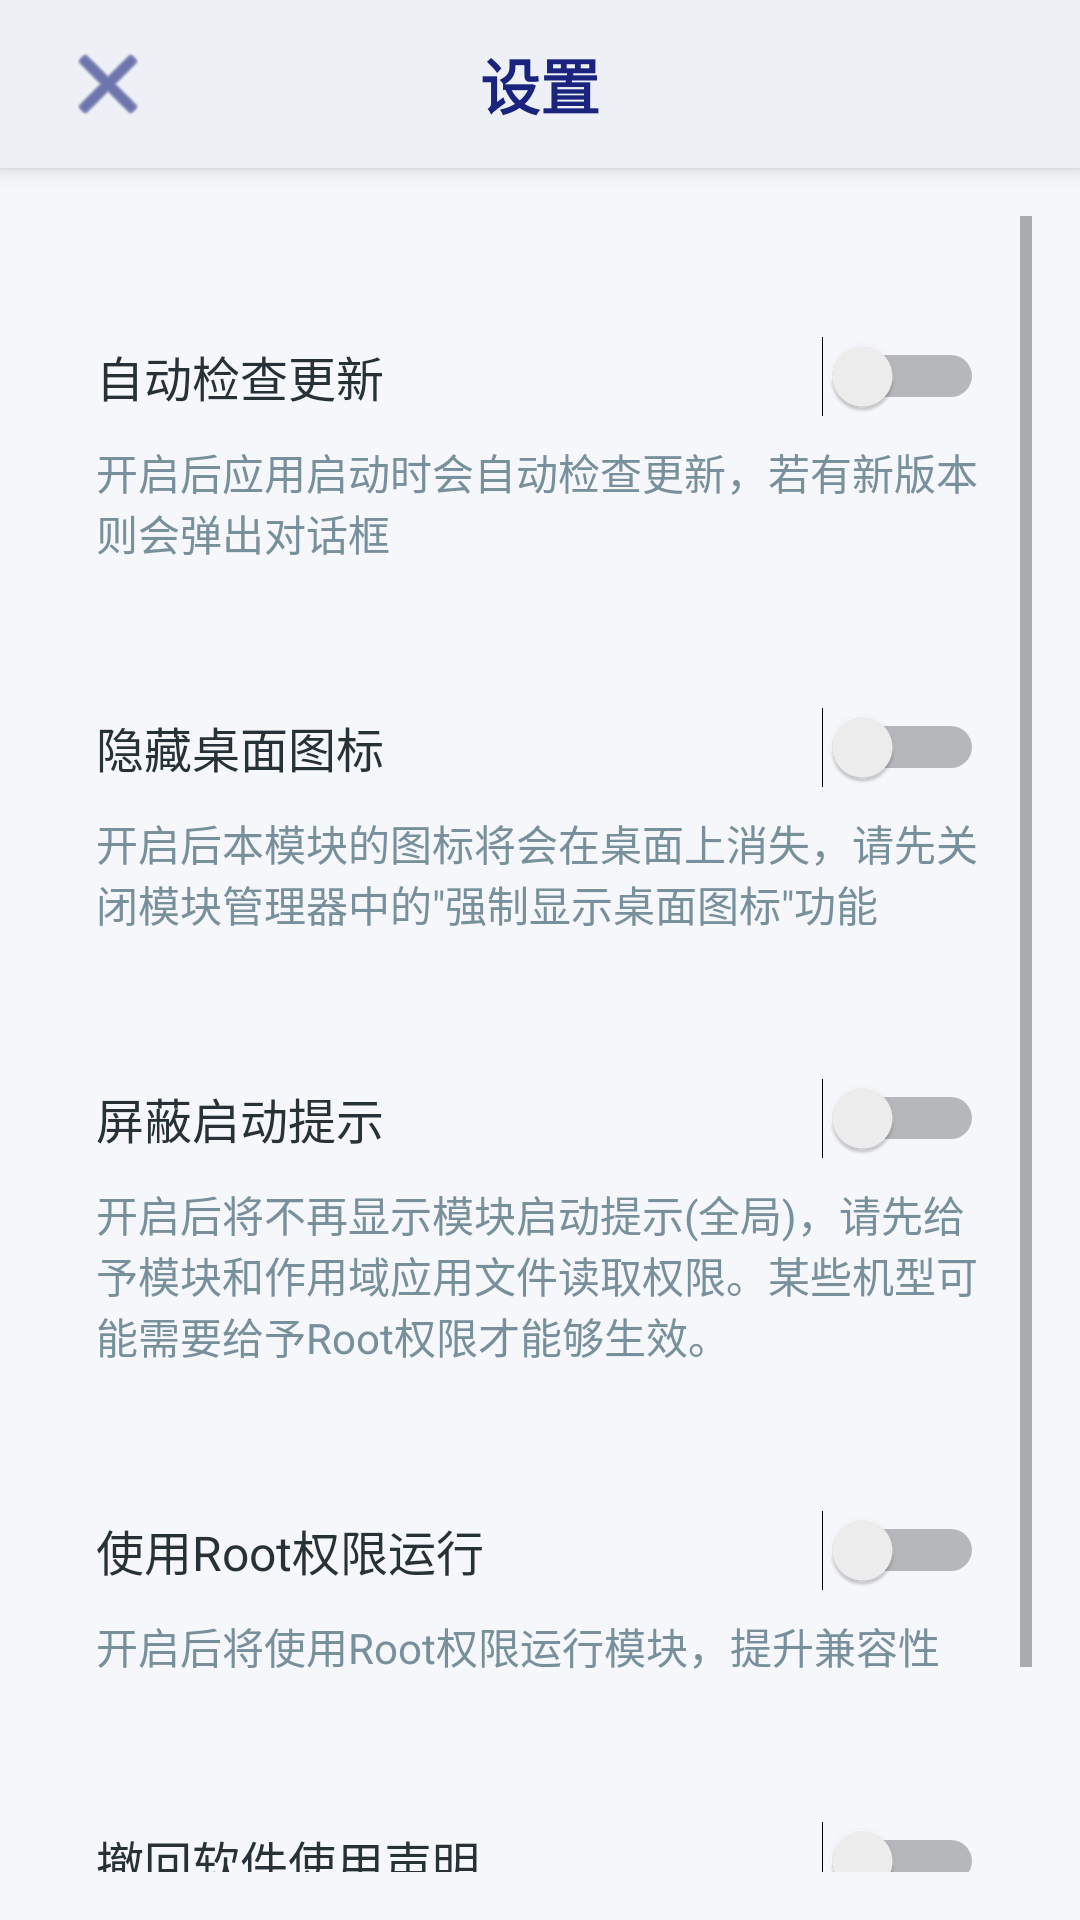

Locate icon controls on the screen. Image size 1080 x 1920, boxes as [left=x1, top=y1, right=x2, bottom=y2].
close clear cancel: [left=78, top=54, right=138, bottom=114]
